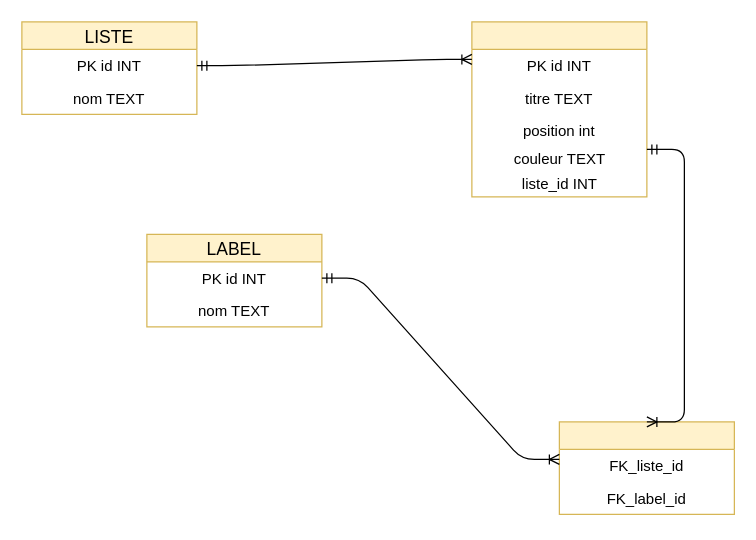
Some shapes in this 756 by 540 pixel diagram are drawn without their labels. Each missing label, with the box of its shape:
CARTE: (471, 21, 647, 197)
carte_has_label: (558, 421, 734, 514)
